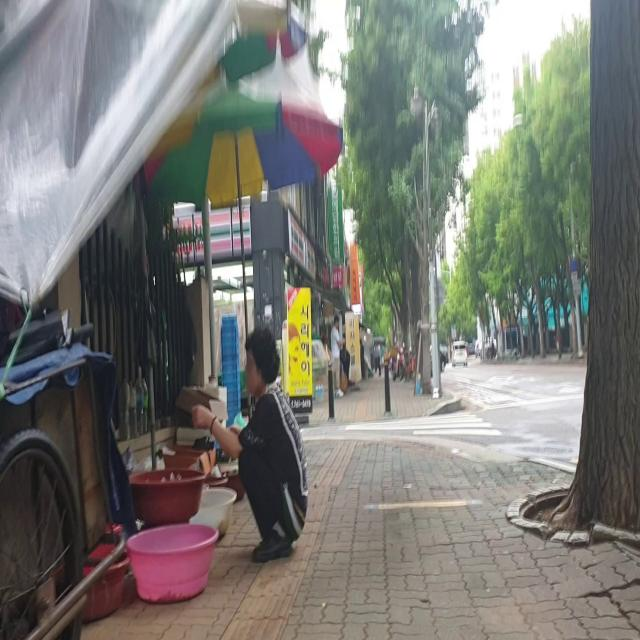횡단보도: (344, 412, 502, 438)
